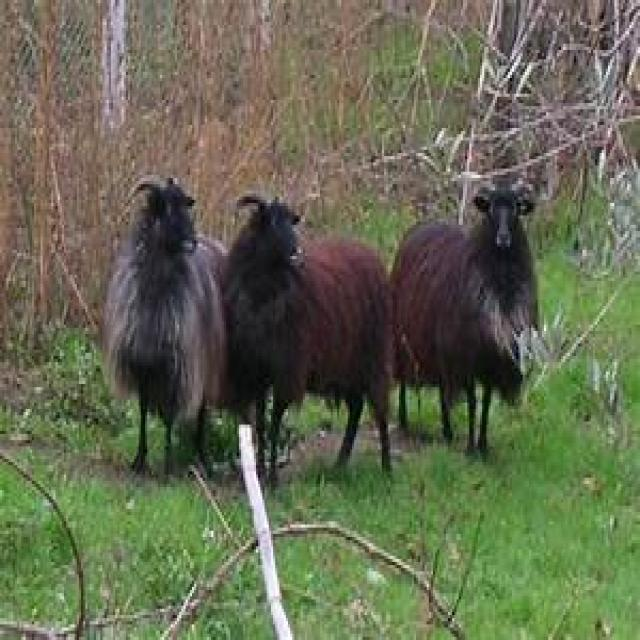sheep: (220, 190, 394, 487), (388, 181, 540, 456), (100, 172, 230, 480)
